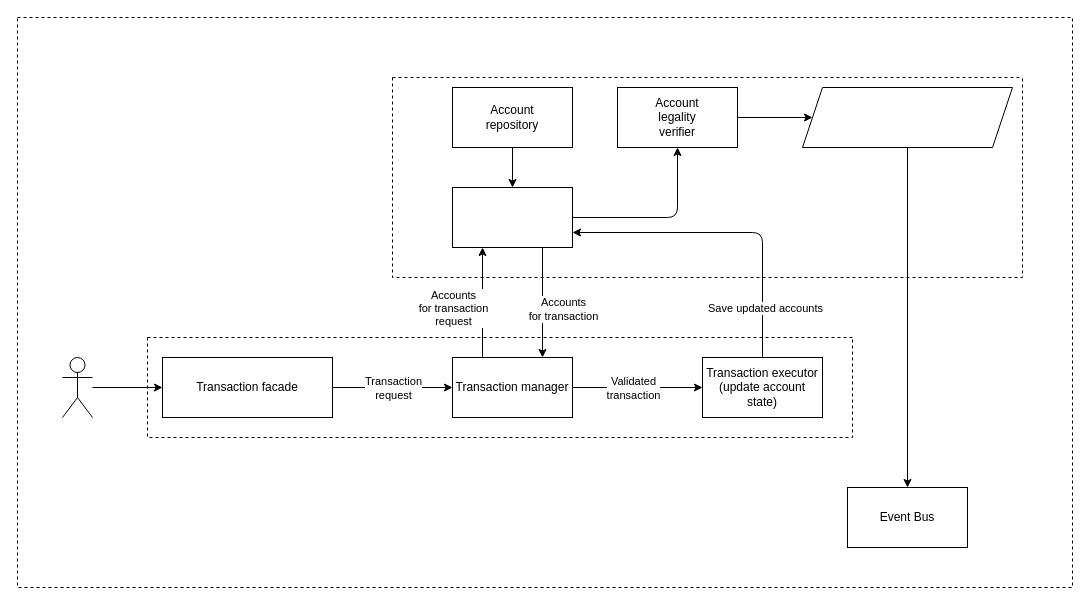
Some shapes in this 1090 by 605 pixel diagram are drawn without their labels. The centre of each missing label's shape, as x and y in pixels:
"Account Legality Verified Event" goes at pixel 907 117.
"Accounts facade" goes at pixel 512 217.
"Money sender" goes at pixel 77 387.
